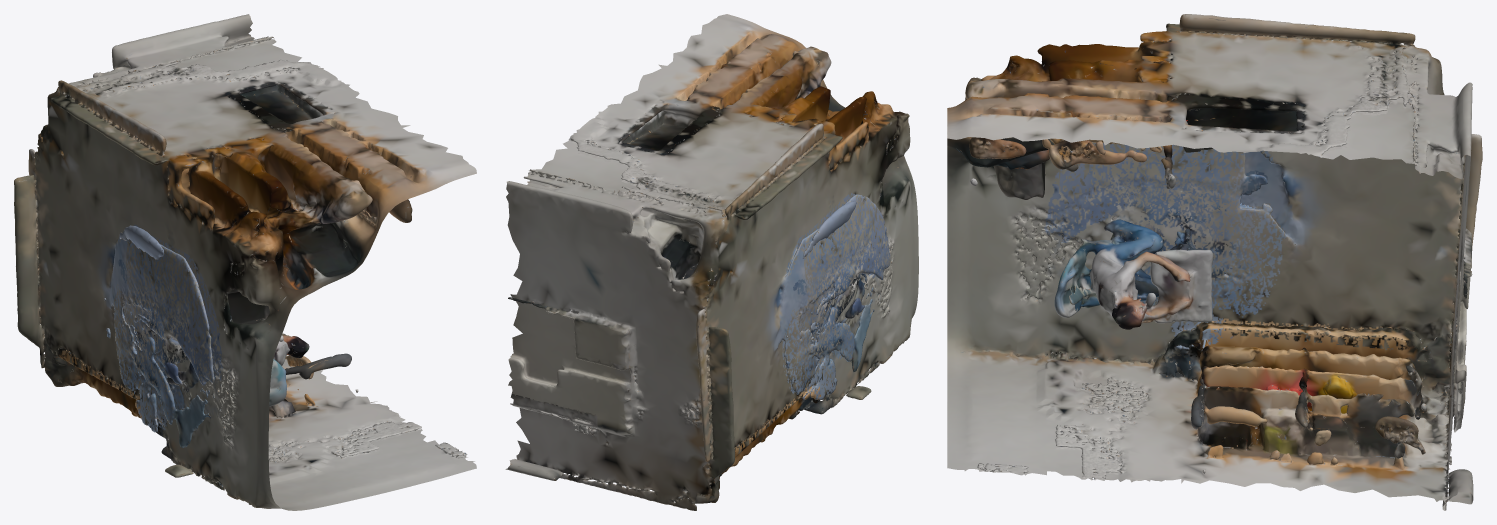
The picture shows the model from 3 angles, left to right: view 1: azimuth 30°, elevation 25°; view 2: azimuth 150°, elevation 25°; view 3: azimuth 270°, elevation 25°; orthographic projection. The views are drawn at different scales.
Parts seen in each view (by area): view 1: answering_questions_85; view 2: answering_questions_85; view 3: answering_questions_85.
Boxes of the visible parts, <box> form: answering_questions_85: <box>14,14,476,510</box>; answering_questions_85: <box>505,14,918,510</box>; answering_questions_85: <box>947,14,1482,510</box>.
Bounding box in the file's own units: 2.38 × 3.23 × 4.11.
Materials: 1 (1 with a texture image).
